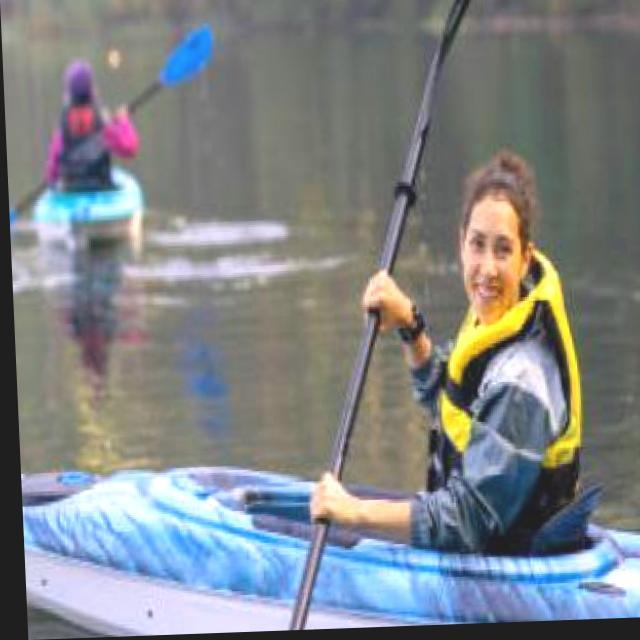kayak: (17, 468, 307, 637), (301, 528, 640, 632)
